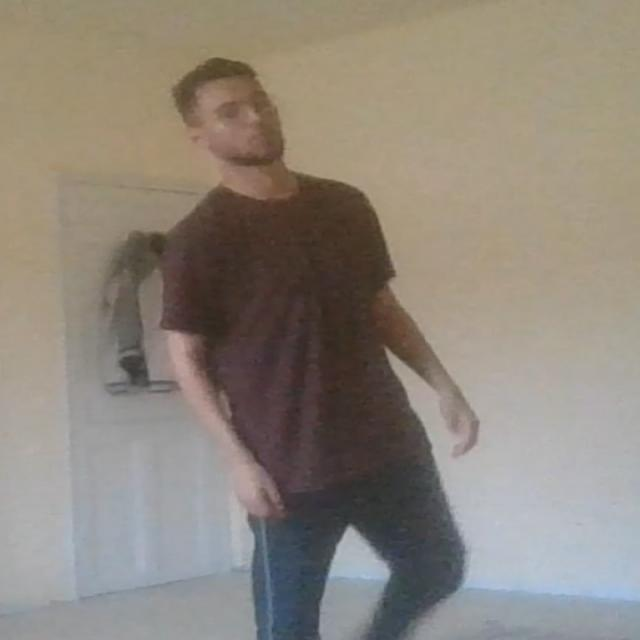non_violence: (119, 31, 510, 640), (132, 22, 490, 640)
